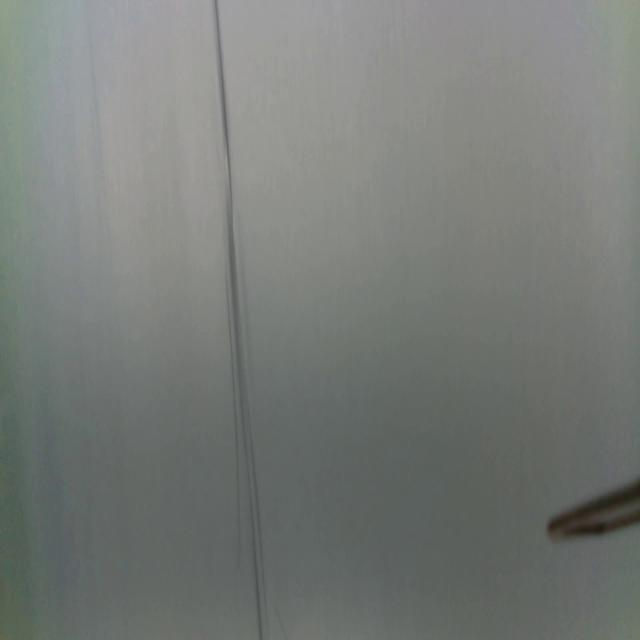crease: (211, 0, 268, 633)
